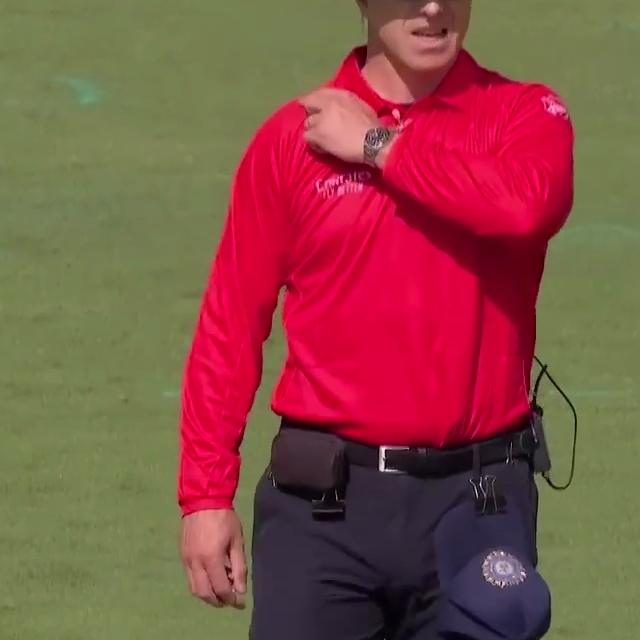umpire: (134, 0, 609, 640)
